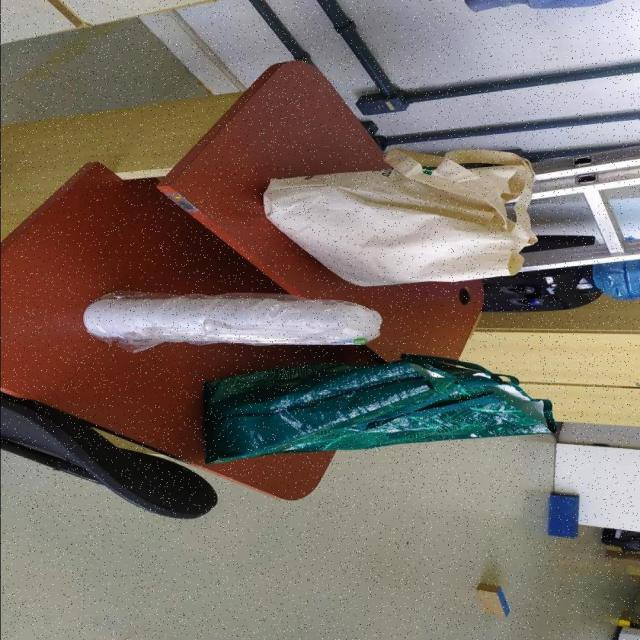Bag: (196, 352, 554, 466), (255, 146, 537, 288)
